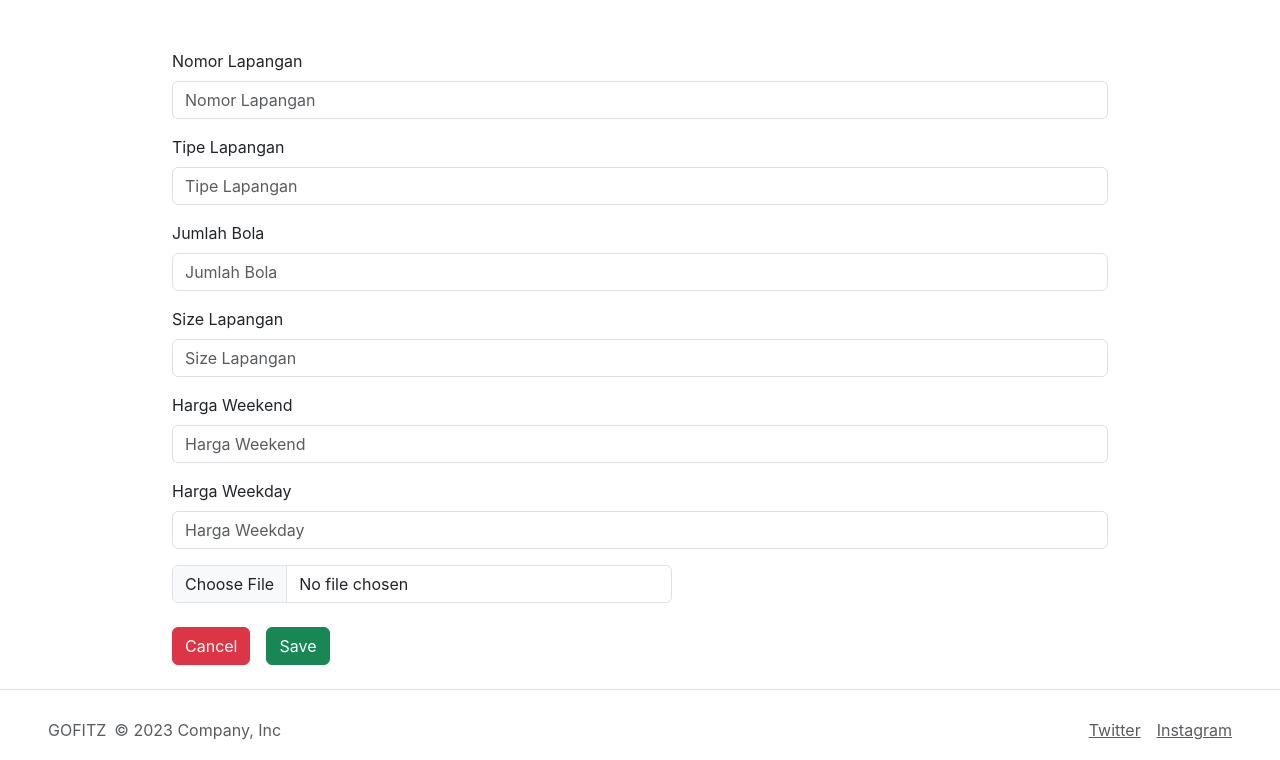
Scenario: AddLapangan Component Tests › Validation error messages appear correctly
(page scrolled)
Note: Klik tombol "Save" tanpa mengisi formulir
Click the button "Save": (298, 646) [266,627,330,665]
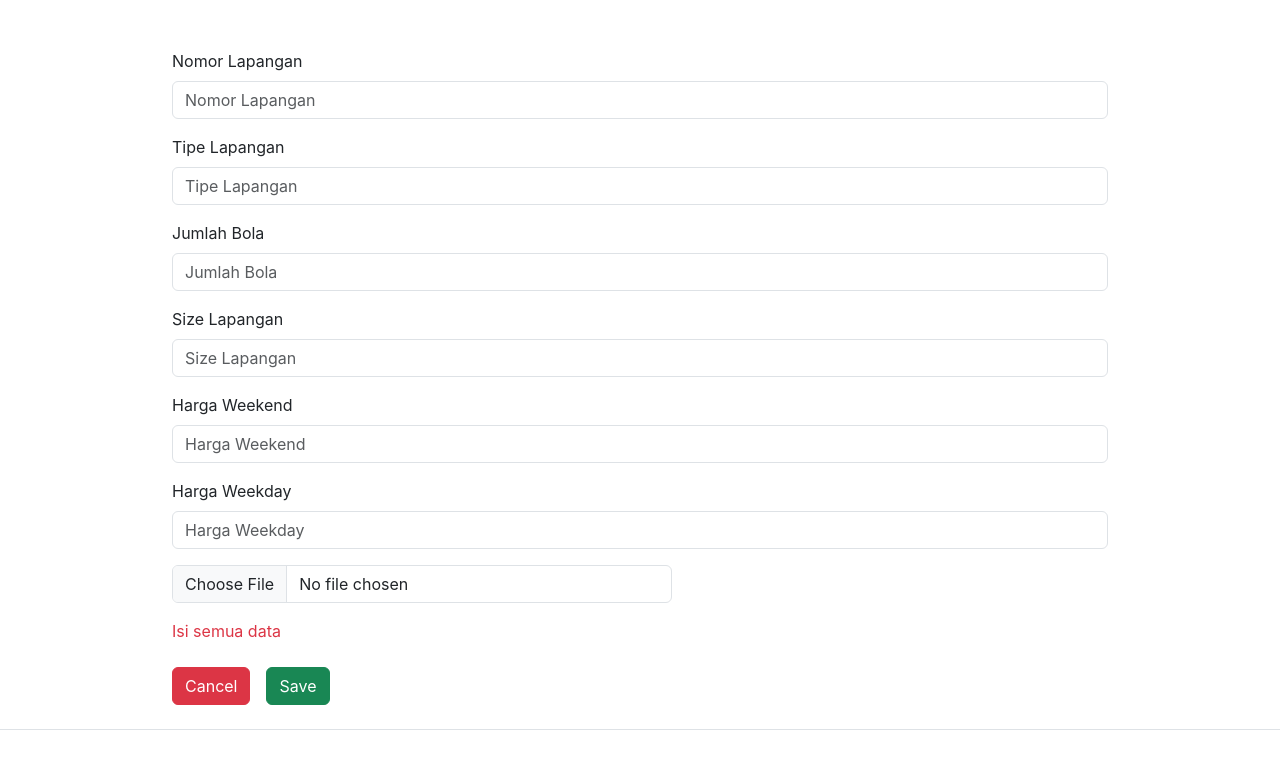
Result: the text "Isi semua data" is shown at [172,619,281,643]
